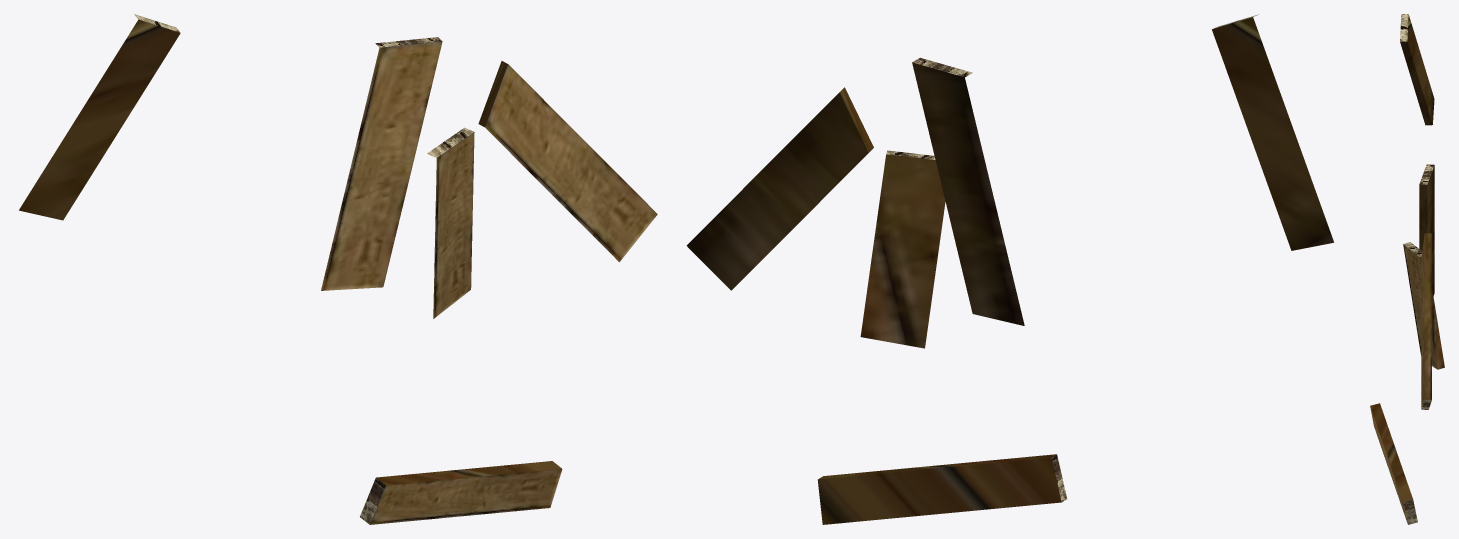
3 renders of one model, left to right at view 1: azimuth 30°, elevation 25°; view 2: azimuth 150°, elevation 25°; view 3: azimuth 270°, elevation 25°, orthographic. The views are drawn at different scales.
Parts seen in each view (by area): view 1: model_Object18; view 2: model_Object18; view 3: model_Object18.
Boxes of the visible parts, left/top/right/bottom form: model_Object18: left=19, top=14, right=657, bottom=524; model_Object18: left=686, top=14, right=1333, bottom=524; model_Object18: left=1370, top=14, right=1444, bottom=524.
Size of the model in its own units: 2.35 by 2.1 by 0.3737.
3 materials, 3 textured.
